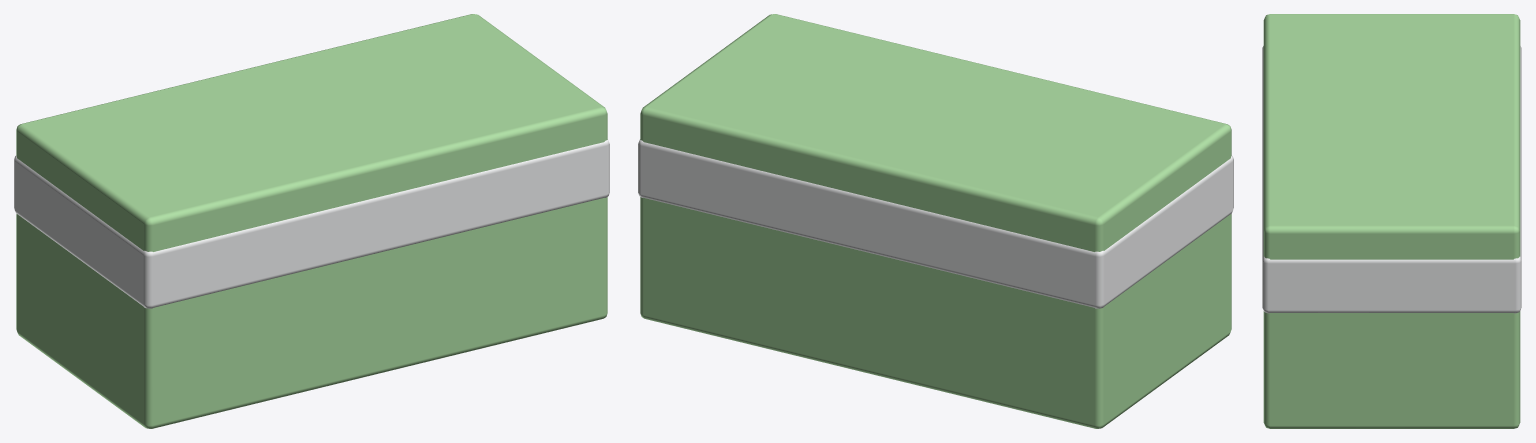
Rendered from SM_TeaBox.fbx.
3 views of the same model, side by side, from view 1: azimuth 30°, elevation 25°; view 2: azimuth 150°, elevation 25°; view 3: azimuth 270°, elevation 25° (orthographic). The views are drawn at different scales.
Visible parts, largest first — view 1: SM_TeaBox; view 2: SM_TeaBox; view 3: SM_TeaBox.
Boxes of the visible parts, <box> form: SM_TeaBox: <box>14,14,609,428</box>; SM_TeaBox: <box>638,14,1233,428</box>; SM_TeaBox: <box>1262,14,1521,428</box>.
Bounding box in the file's own units: 0.161 × 0.07 × 0.081.
